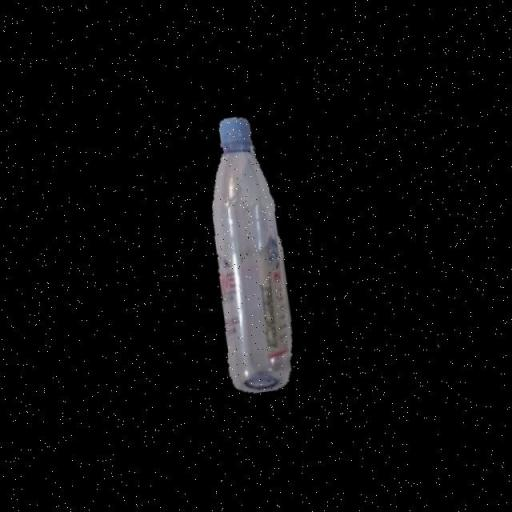plastic: (189, 110, 303, 398)
